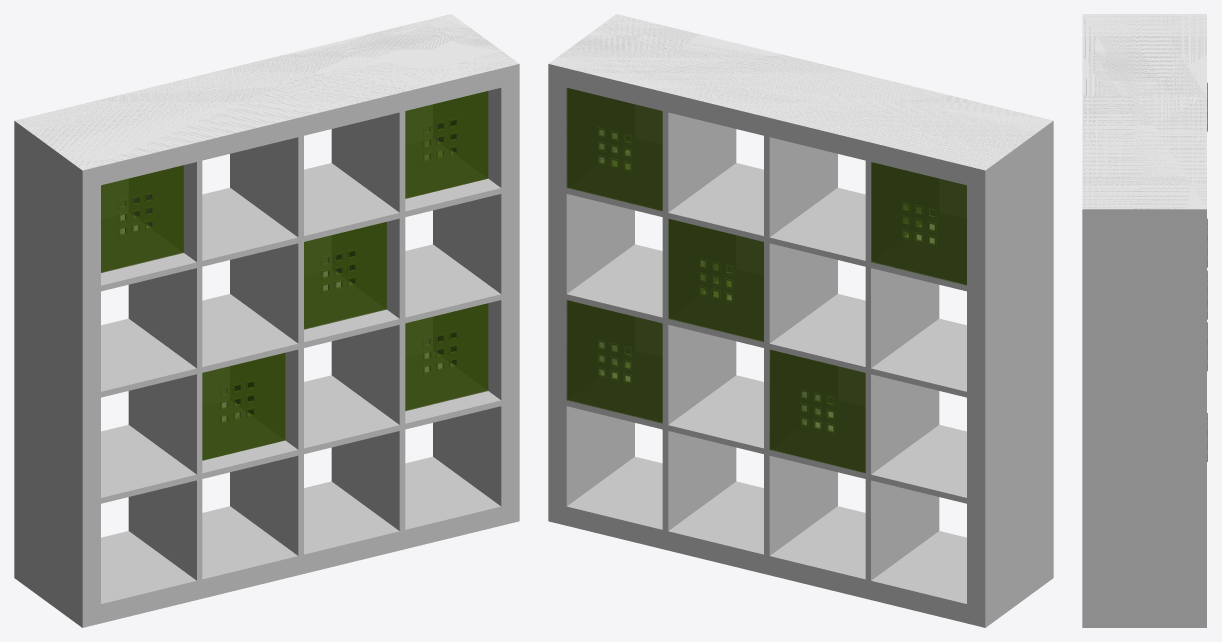
3 views of the same model, side by side, from view 1: azimuth 30°, elevation 25°; view 2: azimuth 150°, elevation 25°; view 3: azimuth 270°, elevation 25° (orthographic). The views are drawn at different scales.
Parts seen in each view (by area): view 1: mesh1_mesh1-geometry, mesh2_mesh2-geometry, mesh3_mesh3-geometry; view 2: mesh1_mesh1-geometry, mesh2_mesh2-geometry, mesh3_mesh3-geometry; view 3: mesh1_mesh1-geometry, mesh2_mesh2-geometry.
Part boxes in pixels (x1,y1,x2,y2): mesh1_mesh1-geometry: (14, 14, 519, 627); mesh2_mesh2-geometry: (101, 91, 488, 460); mesh3_mesh3-geometry: (110, 117, 486, 458); mesh1_mesh1-geometry: (548, 14, 1053, 627); mesh2_mesh2-geometry: (566, 88, 966, 473); mesh3_mesh3-geometry: (570, 129, 934, 471); mesh1_mesh1-geometry: (1082, 14, 1206, 627); mesh2_mesh2-geometry: (1207, 82, 1207, 461).
Bounding box in the file's own units: 0.6944 × 0.6944 × 0.1885.
